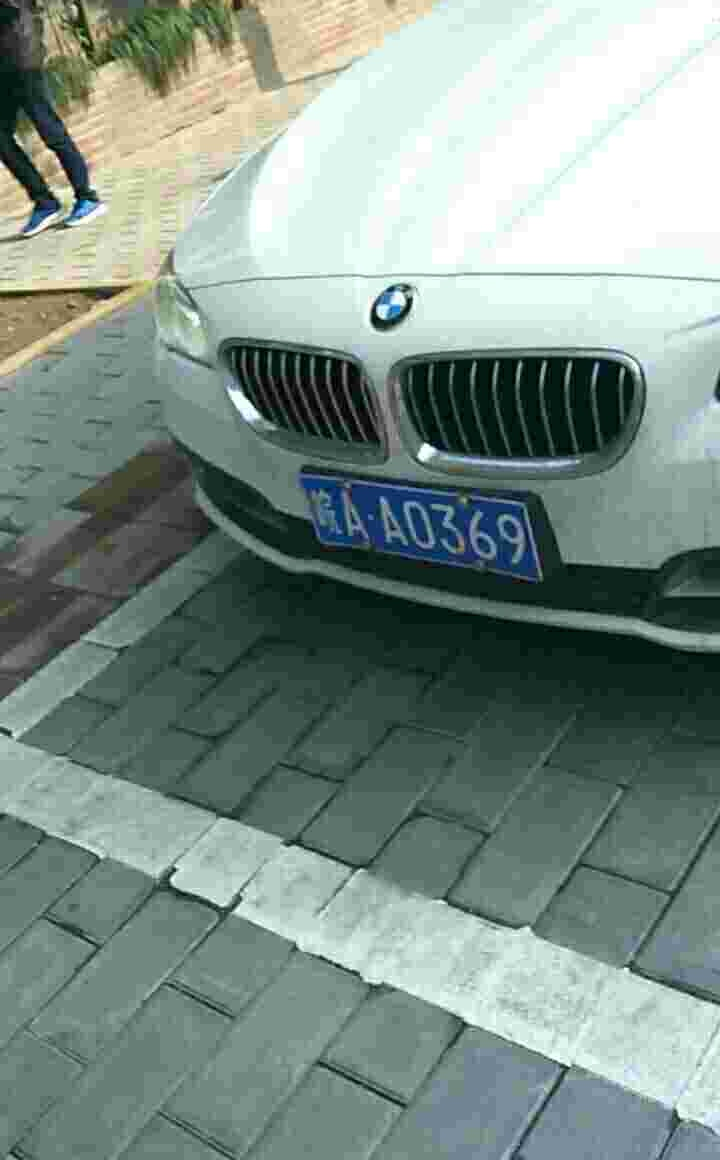license_plate: (306, 478, 546, 584)
